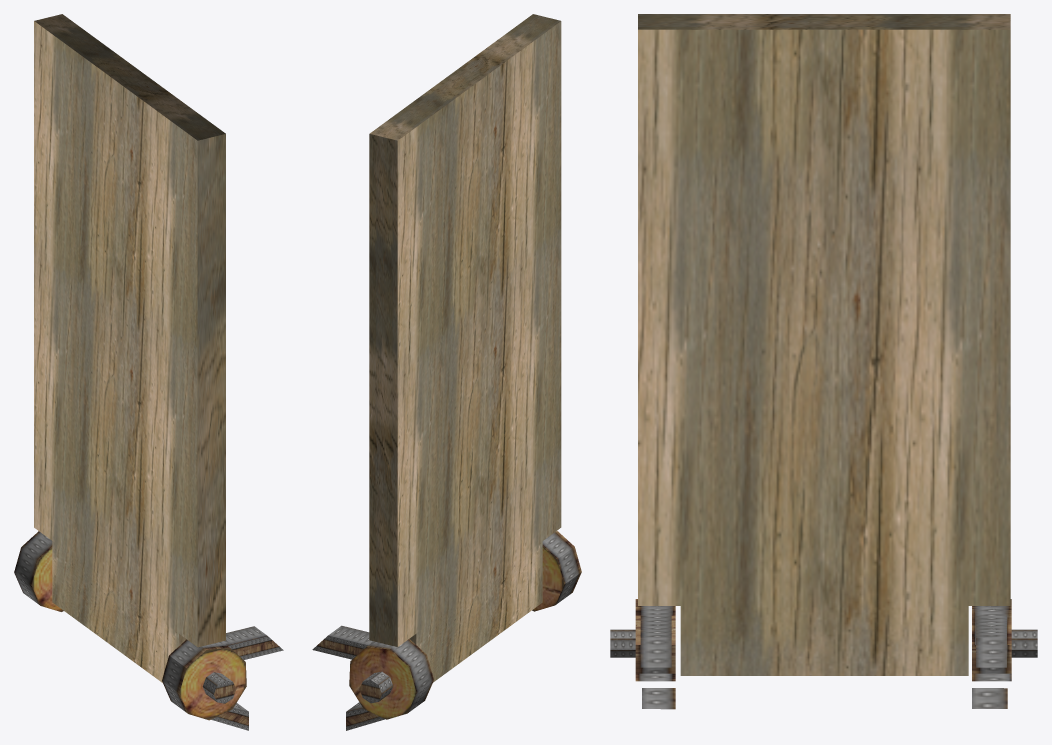
File: P_Modul_25.FBX
3 views of the same model, side by side, from view 1: azimuth 30°, elevation 25°; view 2: azimuth 150°, elevation 25°; view 3: azimuth 270°, elevation 25° (orthographic). The views are drawn at different scales.
Visible parts, largest first — view 1: P_Modul_25_Bridge, P_Modul_25_L, P_Modul_25_Hinge, P_Modul_25_L2; view 2: P_Modul_25_Bridge, P_Modul_25_Hinge, P_Modul_25_L, P_Modul_25_Hinge2; view 3: P_Modul_25_Bridge, P_Modul_25_L, P_Modul_25_Hinge, P_Modul_25_Hinge2, P_Modul_25_L2.
Part boxes in pixels (x1,y1,x2,y2): P_Modul_25_Bridge: (34, 14, 225, 682); P_Modul_25_L: (162, 626, 283, 730); P_Modul_25_Hinge: (14, 531, 63, 611); P_Modul_25_L2: (202, 672, 236, 703); P_Modul_25_Bridge: (369, 14, 561, 682); P_Modul_25_Hinge: (312, 625, 433, 730); P_Modul_25_L: (532, 531, 581, 611); P_Modul_25_Hinge2: (359, 671, 393, 703); P_Modul_25_Bridge: (638, 14, 1010, 675); P_Modul_25_L: (635, 599, 675, 709); P_Modul_25_Hinge: (972, 599, 1011, 708); P_Modul_25_Hinge2: (1011, 629, 1037, 657); P_Modul_25_L2: (610, 629, 635, 657).
Bounding box in the file's own units: 1.88 × 10.18 × 5.74.
Materials: 3 (3 with a texture image).
